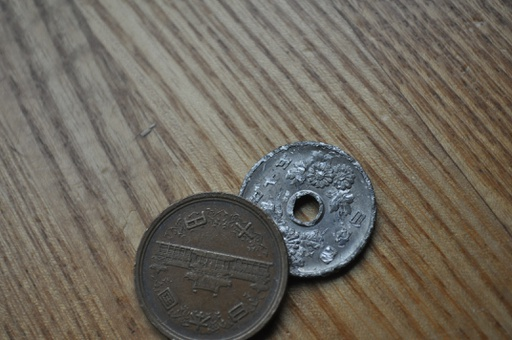10yen: (134, 192, 289, 340)
50yen: (239, 141, 376, 279)
